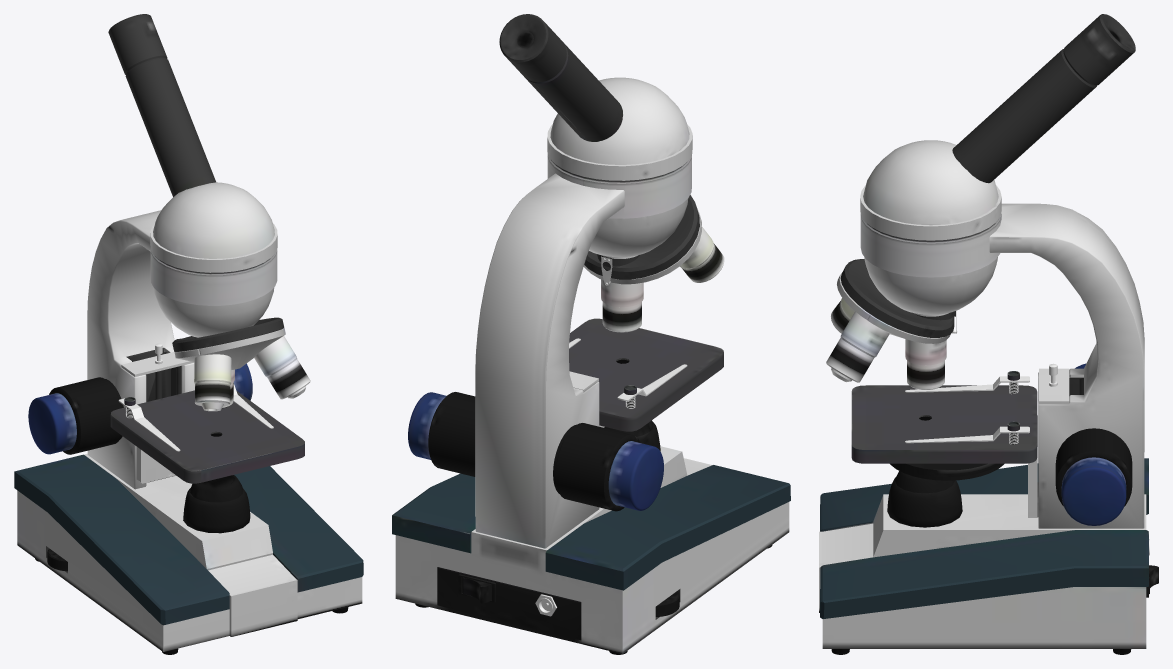
The model's file is microscope.glb.
3 views of the same model, side by side, from view 1: azimuth 30°, elevation 25°; view 2: azimuth 150°, elevation 25°; view 3: azimuth 270°, elevation 25° (orthographic). The views are drawn at different scales.
Visible parts, largest first — view 1: Microscope_Microscope_0; view 2: Microscope_Microscope_0; view 3: Microscope_Microscope_0.
Part boxes in pixels (box(x1,y1,x2,y2)): Microscope_Microscope_0: box(14, 14, 363, 654); Microscope_Microscope_0: box(392, 14, 790, 654); Microscope_Microscope_0: box(819, 14, 1158, 654).
Size of the model in its own units: 13.46 by 32.73 by 17.15.
Materials: 1 (1 with a texture image).
